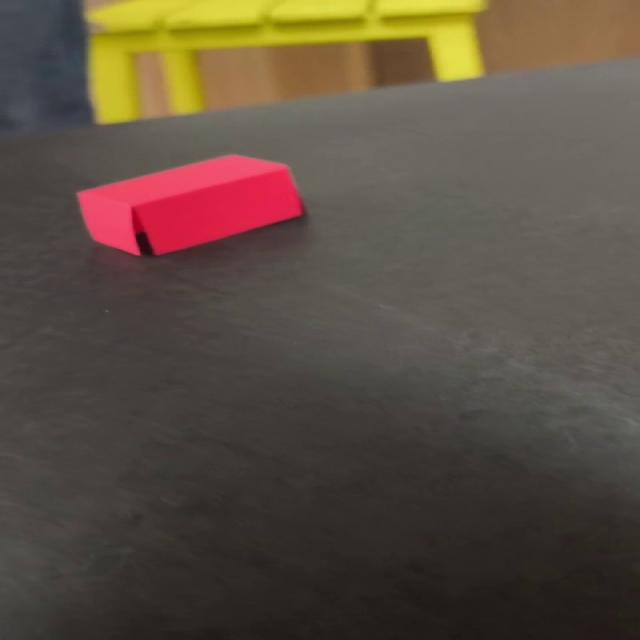red block: (75, 153, 305, 257)
